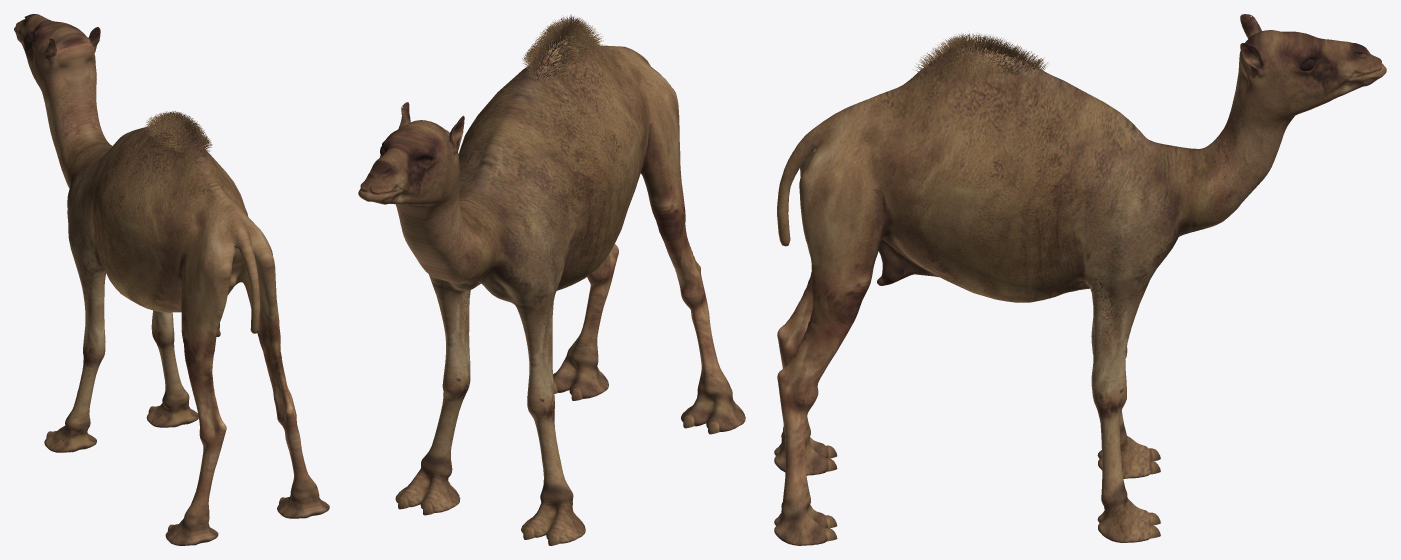
The model's file is Tuya.fbx.
The picture shows the model from 3 angles, left to right: view 1: azimuth 30°, elevation 25°; view 2: azimuth 150°, elevation 25°; view 3: azimuth 270°, elevation 25°; orthographic projection. The views are drawn at different scales.
Visible parts, largest first — view 1: 2010072116160326552760.001; view 2: 2010072116160326552760.001; view 3: 2010072116160326552760.001.
Boxes of the visible parts, left/top/right/bottom form: 2010072116160326552760.001: left=14, top=14, right=329, bottom=545; 2010072116160326552760.001: left=358, top=14, right=745, bottom=545; 2010072116160326552760.001: left=774, top=14, right=1386, bottom=545.
Bounding box in the file's own units: 8.33 × 18.62 × 21.92.
3 materials, 3 textured.
